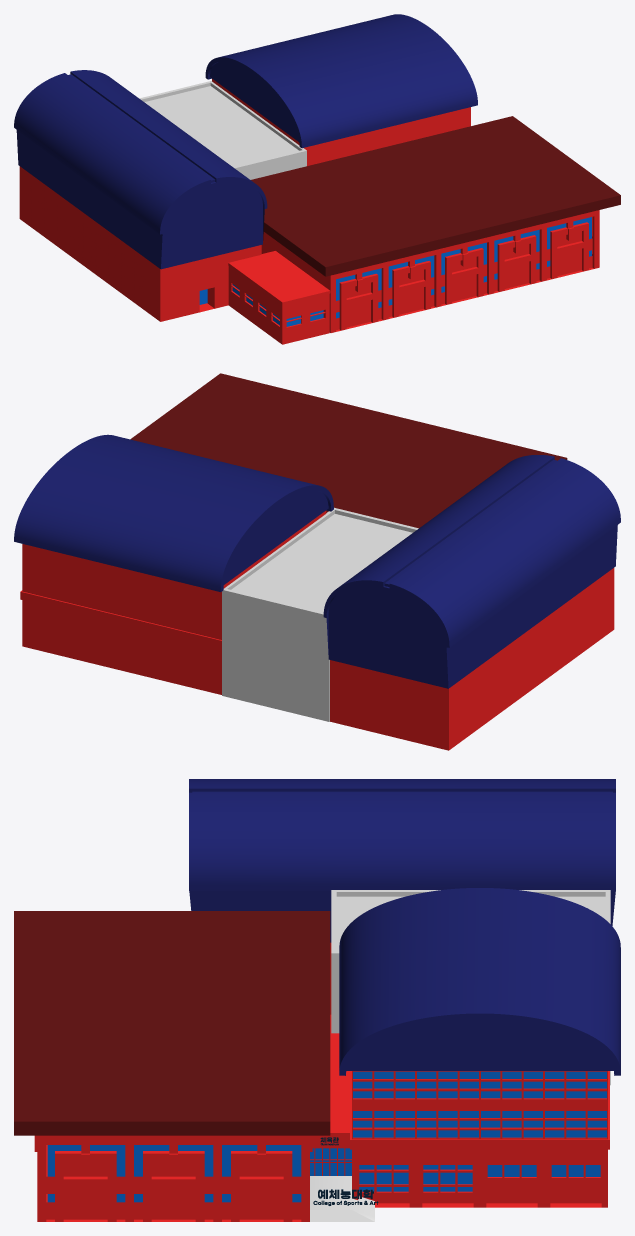
The model's file is 체육관.fbx.
The picture shows the model from 3 angles, top to bottom: view 1: azimuth 30°, elevation 25°; view 2: azimuth 150°, elevation 25°; view 3: azimuth 270°, elevation 25°; orthographic projection. The views are drawn at different scales.
Parts seen in each view (by area): view 1: Cube_9, Cylinder_1, Cylinder, Cube_2, Cube_4, Cube_10, Cube_6, Cube_3, Cube_7, inside; view 2: Cylinder_1, Cylinder, Cube_9, Cube_3, Cube_10, Cube_4; view 3: Cube_9, Cylinder_1, Cylinder, Cube_3, Cube_2, Cube_92, Cube_10, Cube_93, inside, Cube_5, Cube_11, inside_4.
Boxes of the visible parts, <box> form: Cube_9: <box>251,116,620,276</box>; Cylinder_1: <box>14,70,267,269</box>; Cylinder: <box>205,14,477,148</box>; Cube_2: <box>261,210,599,332</box>; Cube_4: <box>19,166,261,321</box>; Cube_10: <box>139,81,306,179</box>; Cube_6: <box>228,266,329,344</box>; Cube_3: <box>212,79,470,165</box>; Cube_7: <box>228,251,330,304</box>; inside: <box>336,217,591,318</box>; Cylinder_1: <box>323,455,620,688</box>; Cylinder: <box>14,434,333,592</box>; Cube_9: <box>130,373,567,528</box>; Cube_3: <box>20,510,326,694</box>; Cube_10: <box>222,507,418,721</box>; Cube_4: <box>330,568,614,750</box>; Cube_9: <box>14,911,330,1135</box>; Cylinder_1: <box>189,779,615,942</box>; Cylinder: <box>339,888,620,1075</box>; Cube_3: <box>350,1071,609,1207</box>; Cube_2: <box>34,1135,312,1221</box>; Cube_92: <box>353,1071,606,1137</box>; Cube_10: <box>331,890,610,1085</box>; Cube_93: <box>359,1165,600,1191</box>; inside: <box>47,1145,301,1202</box>; Cube_5: <box>310,1014,351,1175</box>; Cube_11: <box>310,1176,374,1221</box>; inside_4: <box>310,1148,351,1175</box>.
Bounding box in the file's own units: 1293 × 456 × 1159.
